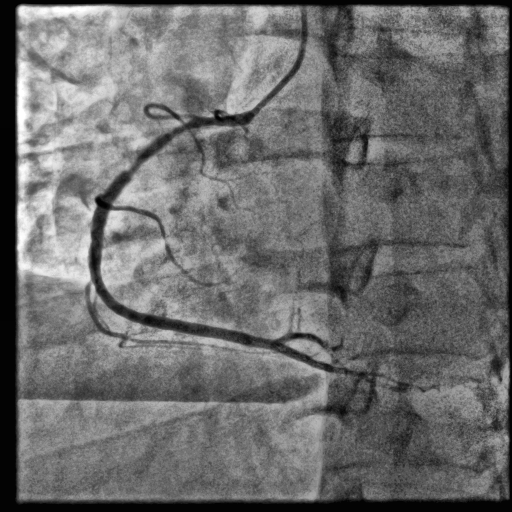pborca: (276, 332, 334, 355)
pda: (274, 345, 406, 392)
rca: (90, 111, 285, 351)
